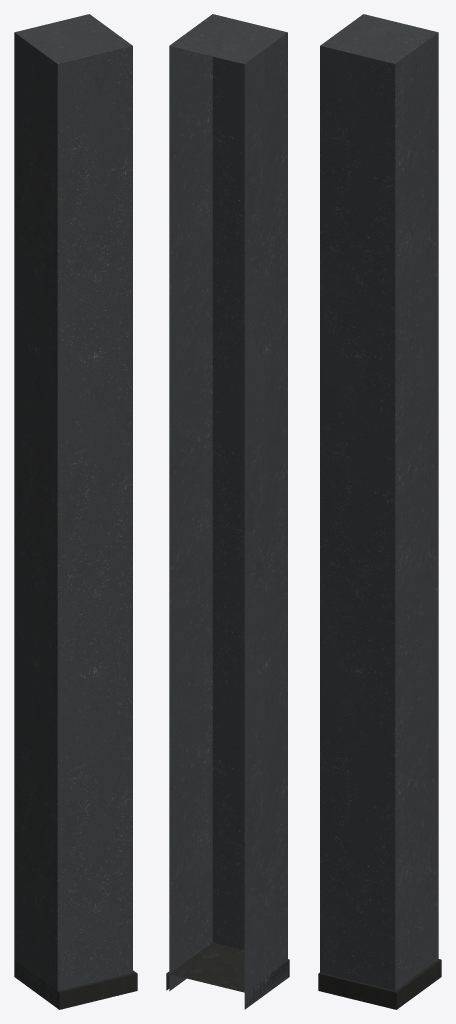
The model's file is SM_QUE_Wall_CornerColumn.fbx.
3 views of the same model, side by side, from view 1: azimuth 30°, elevation 25°; view 2: azimuth 150°, elevation 25°; view 3: azimuth 330°, elevation 25° (orthographic).
Visible parts, largest first — view 1: SM_QUE_Wall_CornerColumn; view 2: SM_QUE_Wall_CornerColumn; view 3: SM_QUE_Wall_CornerColumn.
Boxes of the visible parts, x1,y1,x2,y2 form: SM_QUE_Wall_CornerColumn: (14,14,137,1009); SM_QUE_Wall_CornerColumn: (166,14,289,1009); SM_QUE_Wall_CornerColumn: (318,14,441,1009).
Bounding box in the file's own units: 0.52 × 6 × 0.52.
